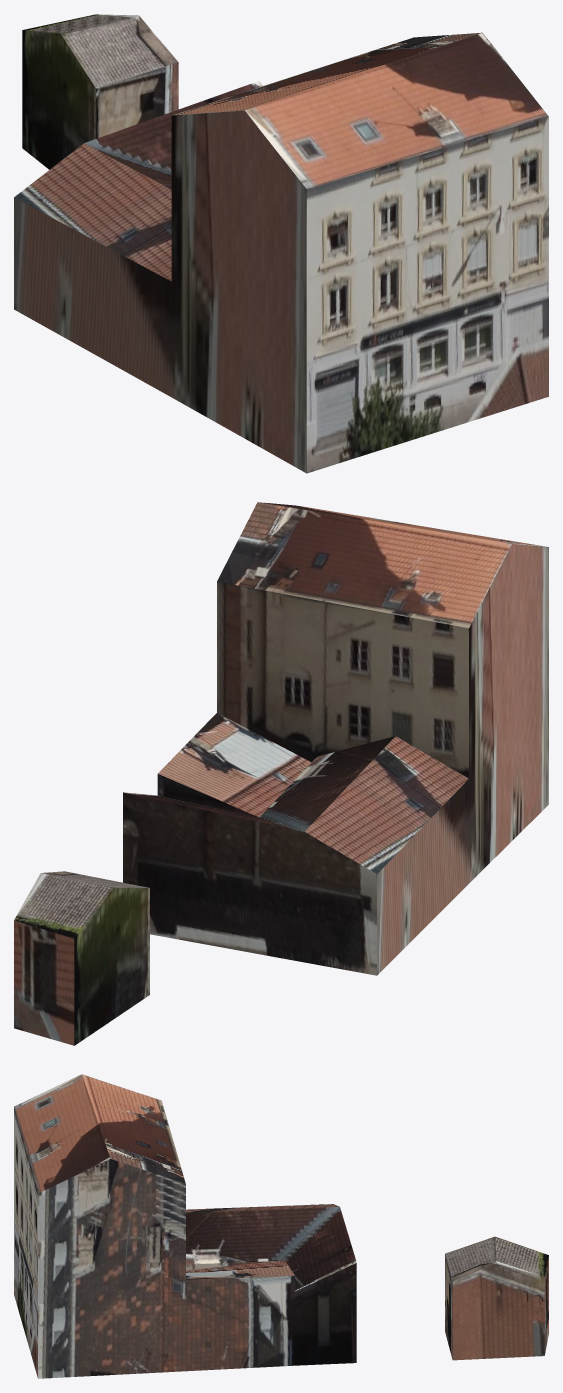
3 views of the same model, one above another, from view 1: azimuth 30°, elevation 25°; view 2: azimuth 150°, elevation 25°; view 3: azimuth 270°, elevation 25° (orthographic). The views are drawn at different scales.
Parts seen in each view (by area): view 1: Z_UP; view 2: Z_UP; view 3: Z_UP.
Part boxes in pixels (left/top/right/bottom): Z_UP: left=14, top=14, right=548, bottom=473; Z_UP: left=14, top=502, right=548, bottom=1045; Z_UP: left=14, top=1074, right=548, bottom=1378.
Size of the model in its own units: 16.67 by 16.76 by 37.42.
Materials: 2 (1 with a texture image).
